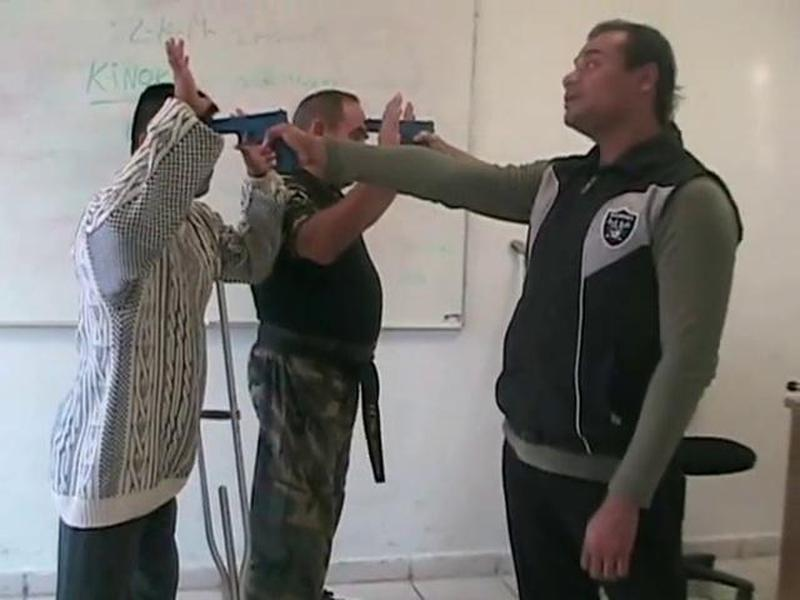Pistola: (201, 94, 311, 189), (341, 96, 454, 183)
